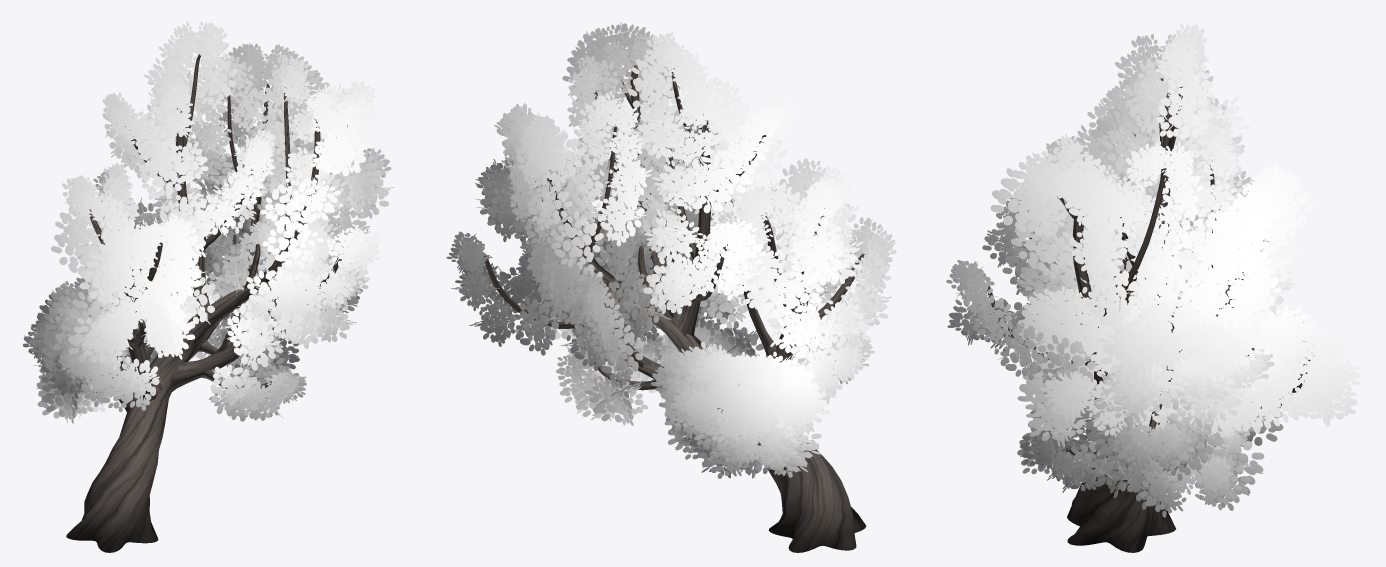
The model's file is TwistedTree_1.gltf.
The picture shows the model from 3 angles, left to right: view 1: azimuth 30°, elevation 25°; view 2: azimuth 150°, elevation 25°; view 3: azimuth 270°, elevation 25°; orthographic projection. The views are drawn at different scales.
Parts seen in each view (by area): view 1: TwistedTree_1; view 2: TwistedTree_1; view 3: TwistedTree_1.
Boxes of the visible parts, x1,y1,x2,y2 form: TwistedTree_1: [23, 21, 394, 552]; TwistedTree_1: [446, 22, 897, 552]; TwistedTree_1: [946, 24, 1360, 552].
Bounding box in the file's own units: 13.52 × 16.73 × 11.55.
Materials: 2 (2 with a texture image).
